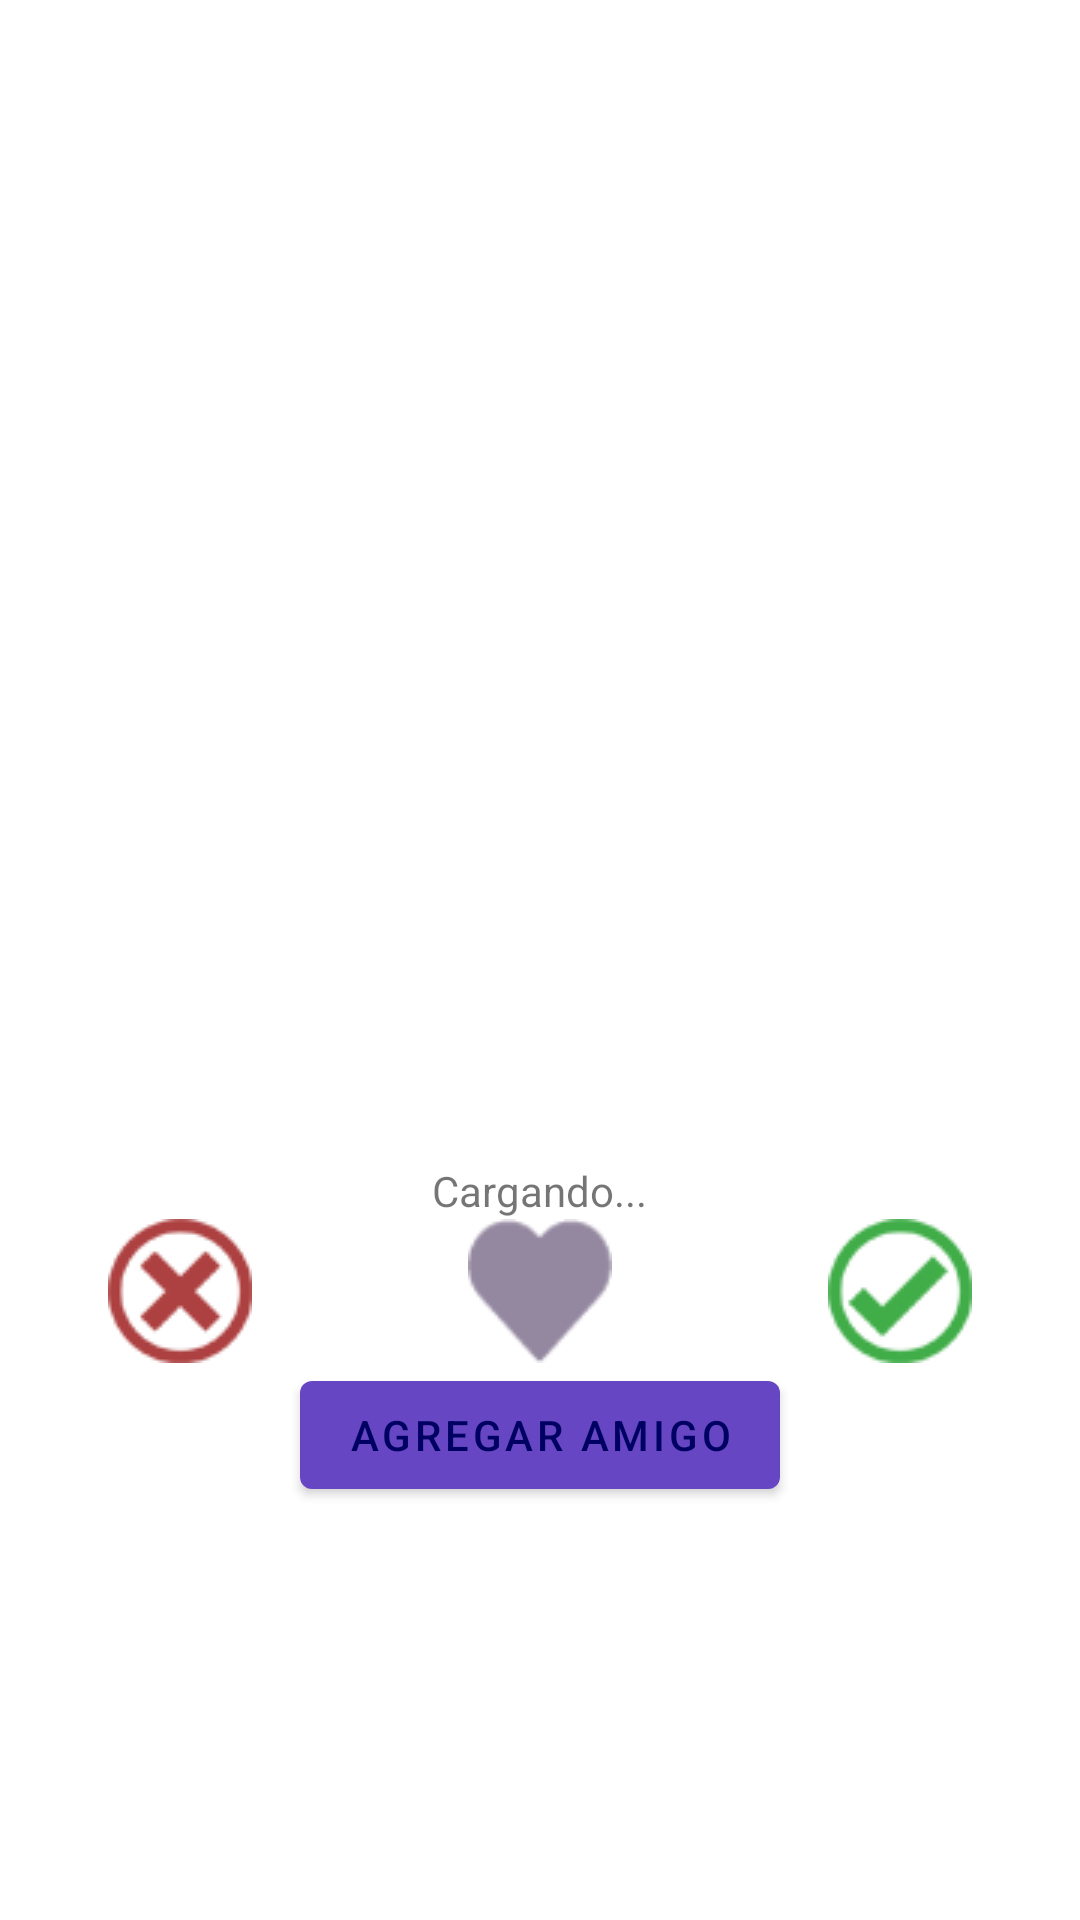

Where to tap for icons on this 1080 x 1920 app screen, as (x=x, y=y):
corazon: (x=540, y=1291)
equis: (x=180, y=1291)
visto: (x=900, y=1291)
